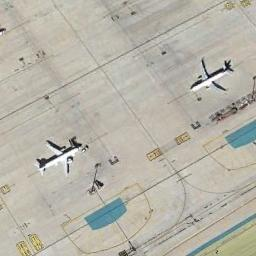Airplane: (185, 56, 239, 96), (37, 139, 83, 180)
